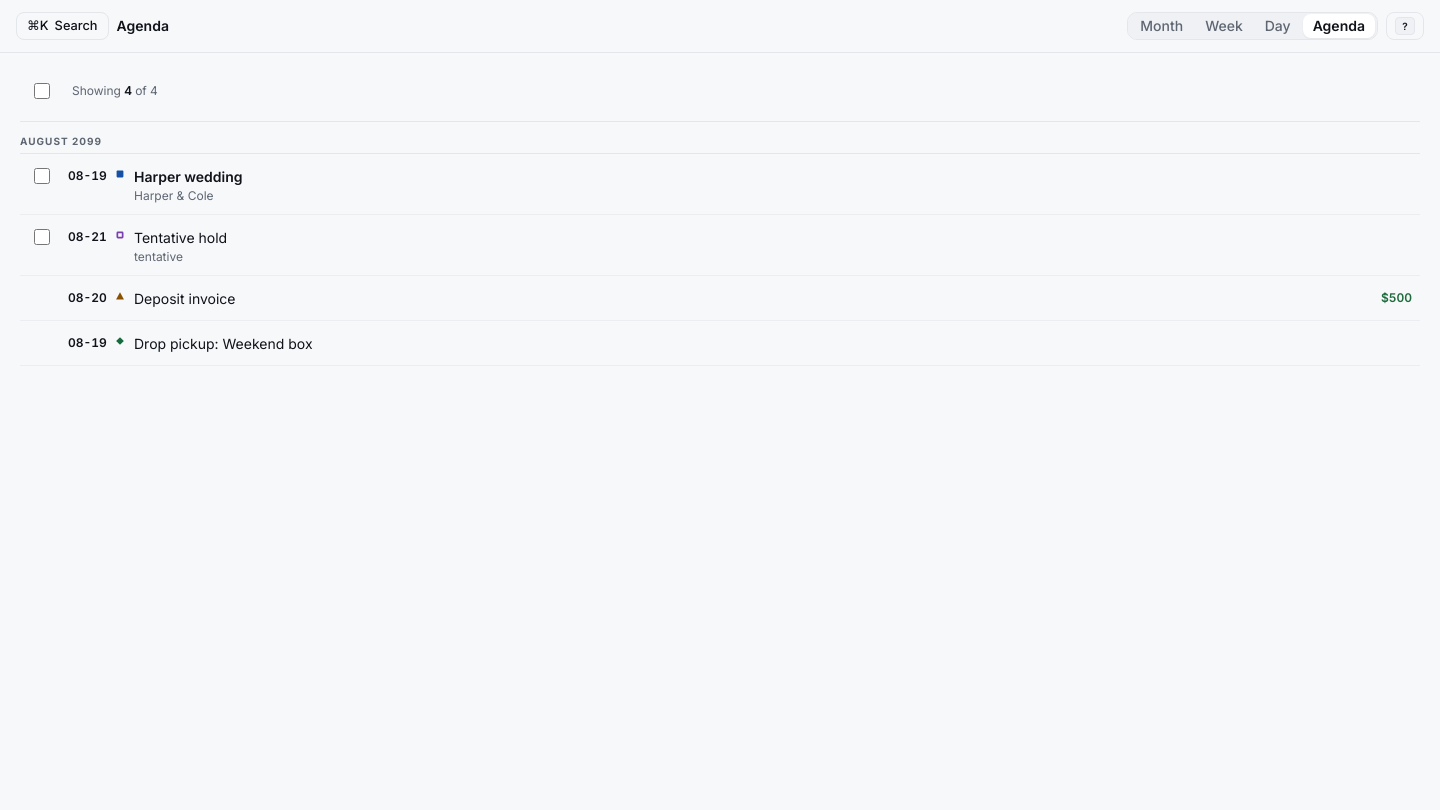
Scenario: Escape dismisses exactly one surface › closing the ⌘K palette leaves an agenda bulk selection intact
Click the checkbox in the row of "Harper wedding": (42, 176) x1=34 y1=168 x2=50 y2=184
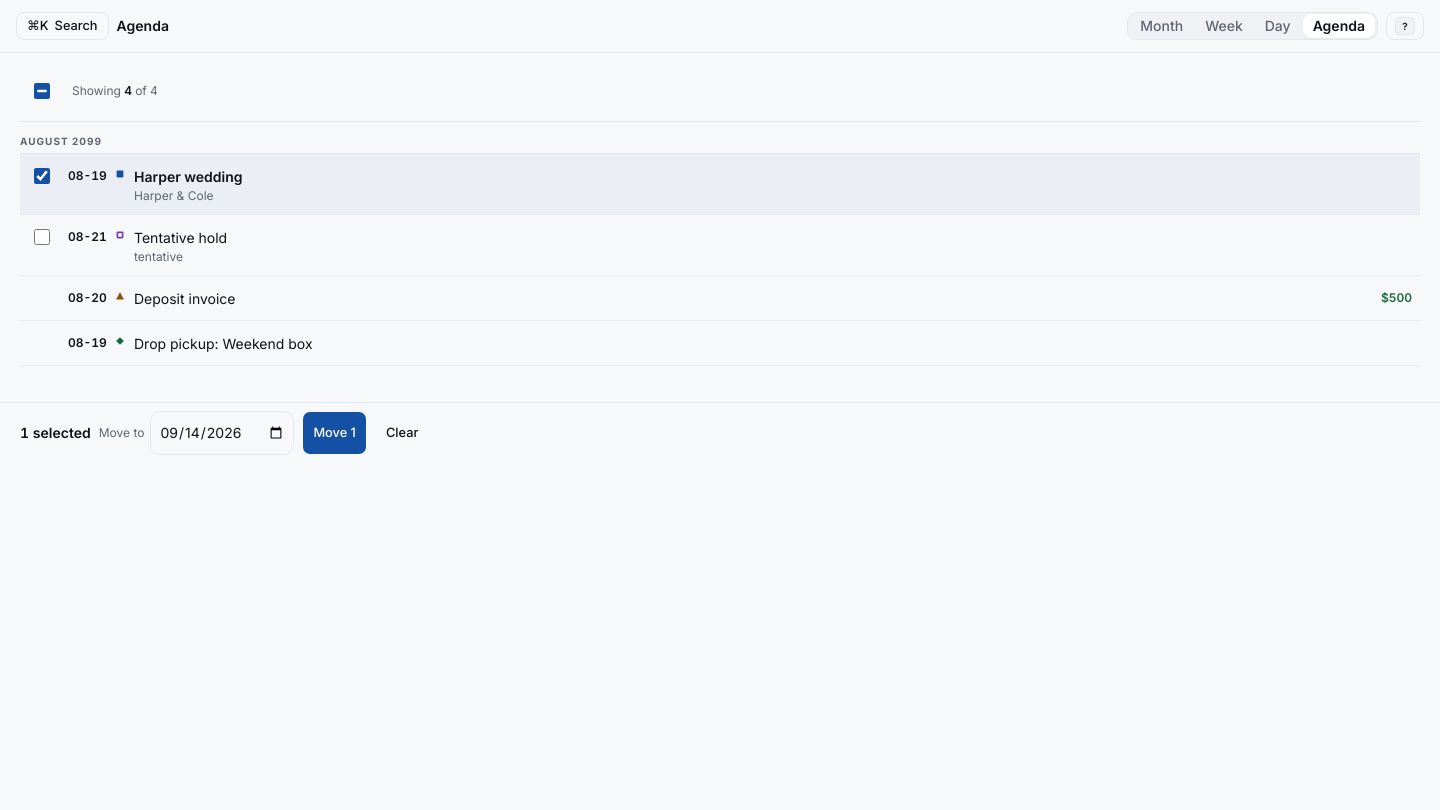
Check: the text "1 selected" is shown, box x1=20 y1=423 x2=91 y2=443
Press k
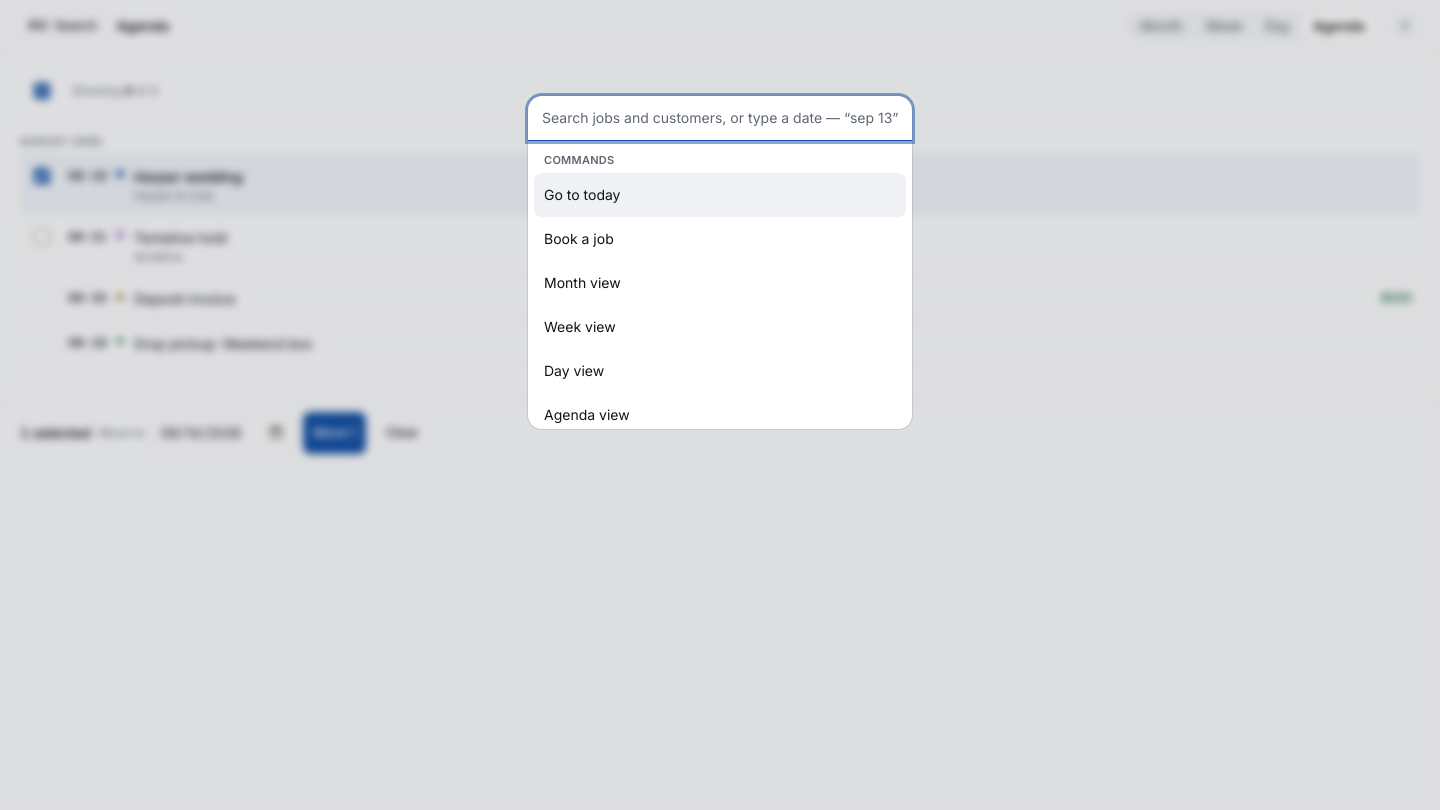
Press Escape in the dropdown, box x1=528 y1=96 x2=912 y2=141
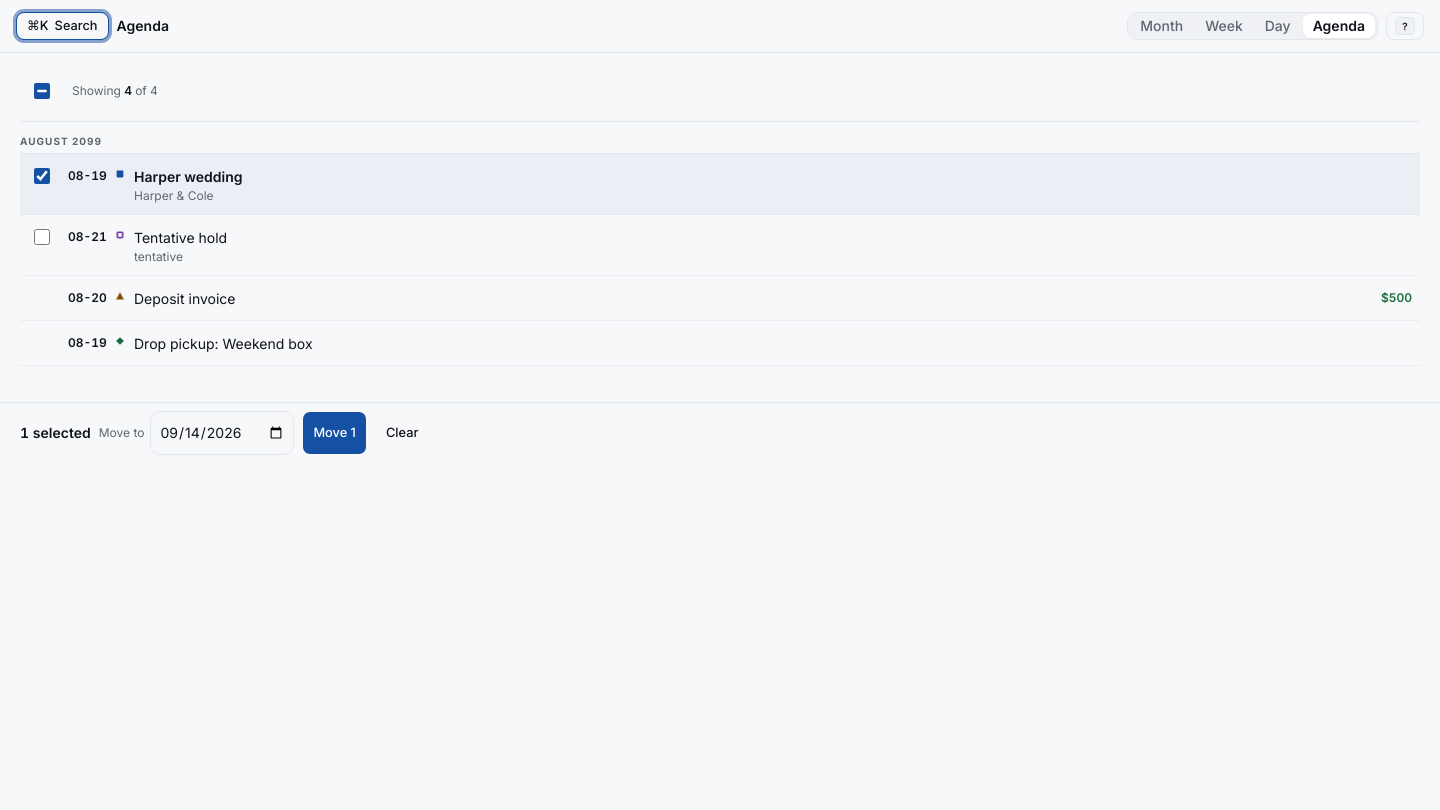
Check: the text "1 selected" is shown, box x1=20 y1=423 x2=91 y2=443
Check: the dropdown is gone
